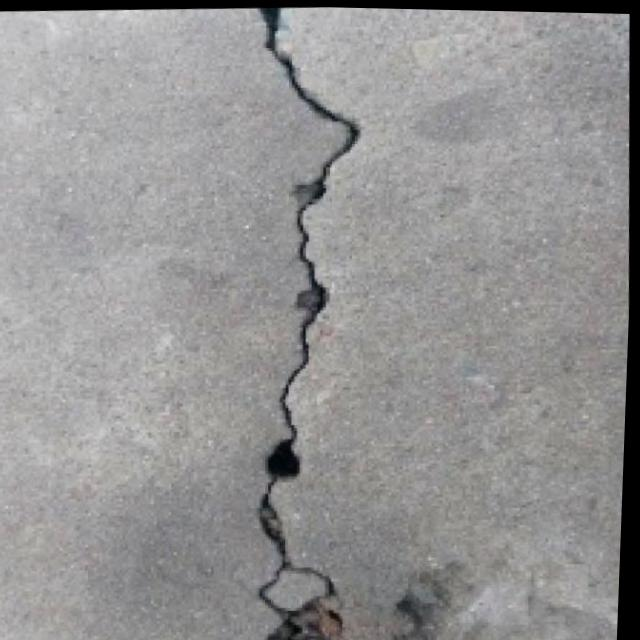Crack: (186, 4, 415, 640)
